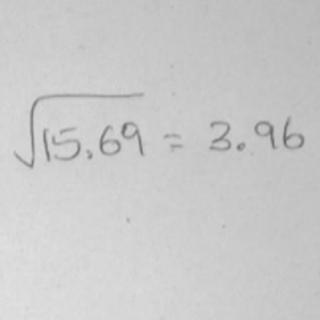.: (81, 147, 98, 162), (237, 142, 250, 154)
1: (39, 127, 53, 164)
3: (209, 119, 232, 153)
5: (52, 125, 82, 160)
6: (98, 125, 125, 158), (283, 115, 306, 150)
9: (121, 121, 147, 156), (255, 119, 278, 149)
